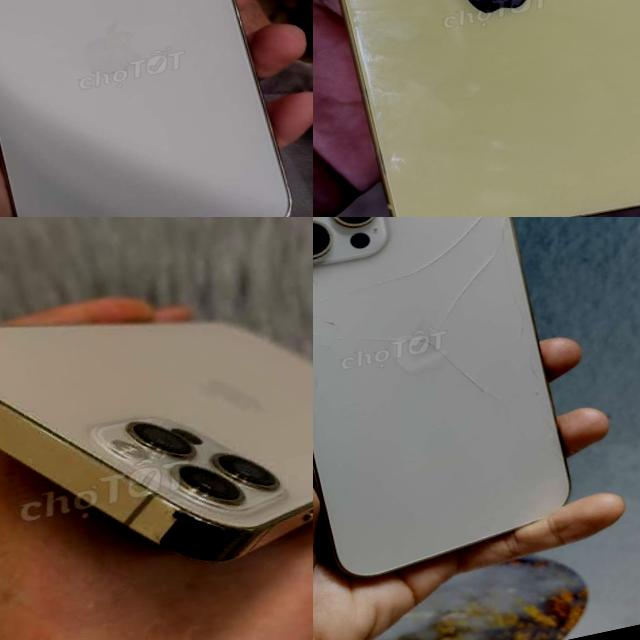gen_11: (313, 0, 640, 217)
gen_12_13: (313, 217, 603, 592), (0, 322, 313, 560), (0, 0, 299, 217)
